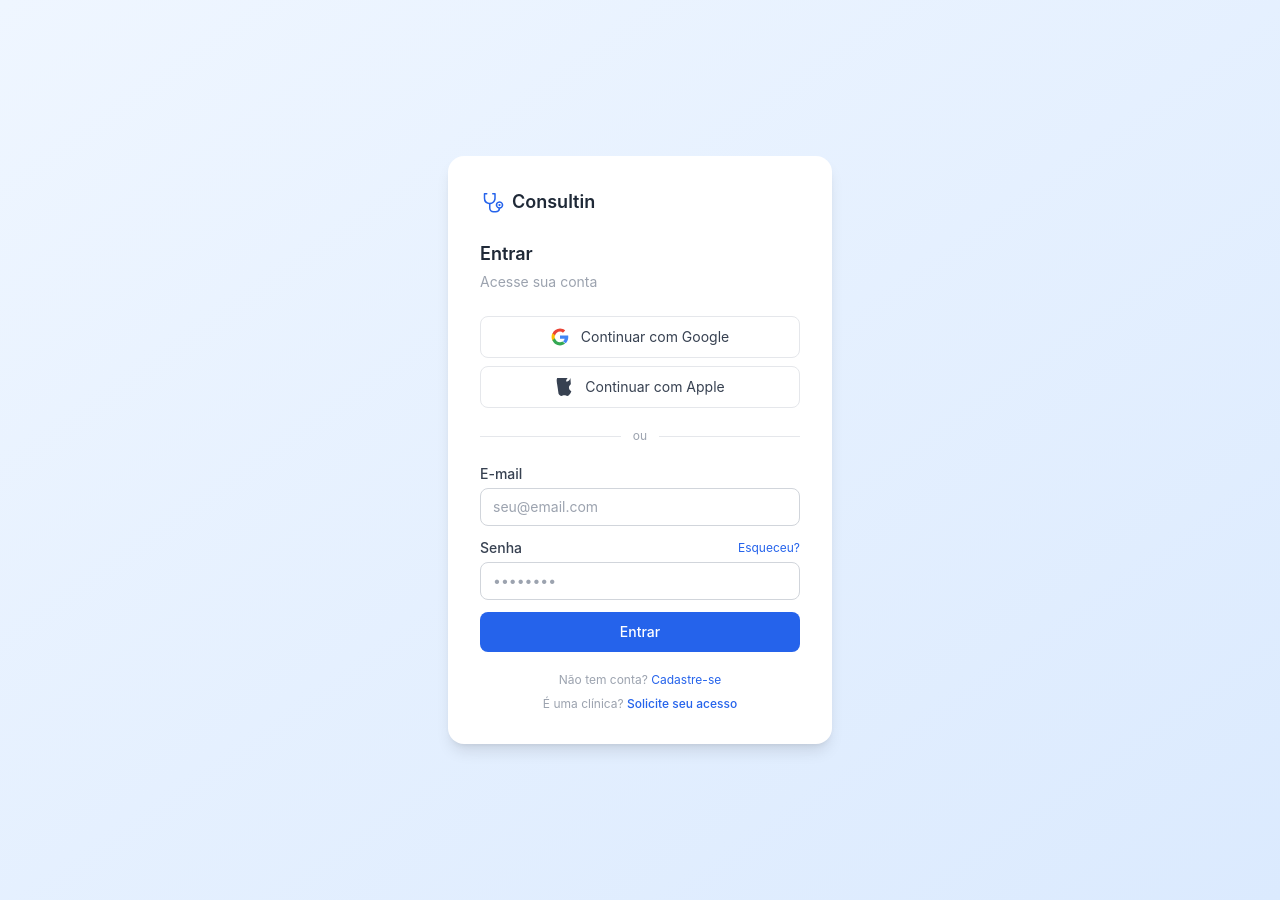
Test: LoginPage — login view › shows error message on invalid credentials
The image size is (1280, 900).
Type "bad@bad.com" into the field with placeholder "seu@email.com" at (640, 507), box [480,488,800,526]
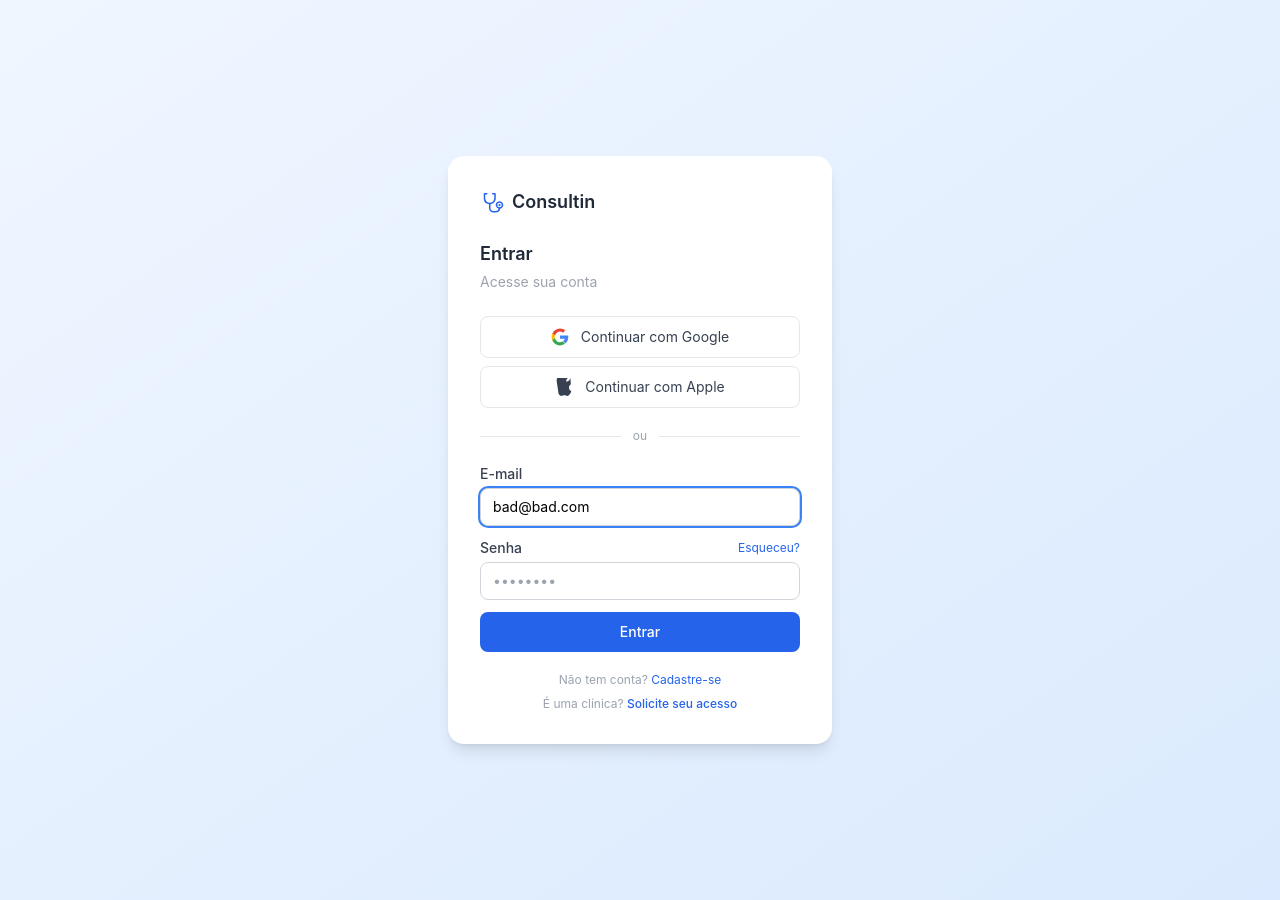
Type "wrongpass" into the password field with placeholder "••••••••" at (640, 581), box [480,562,800,600]
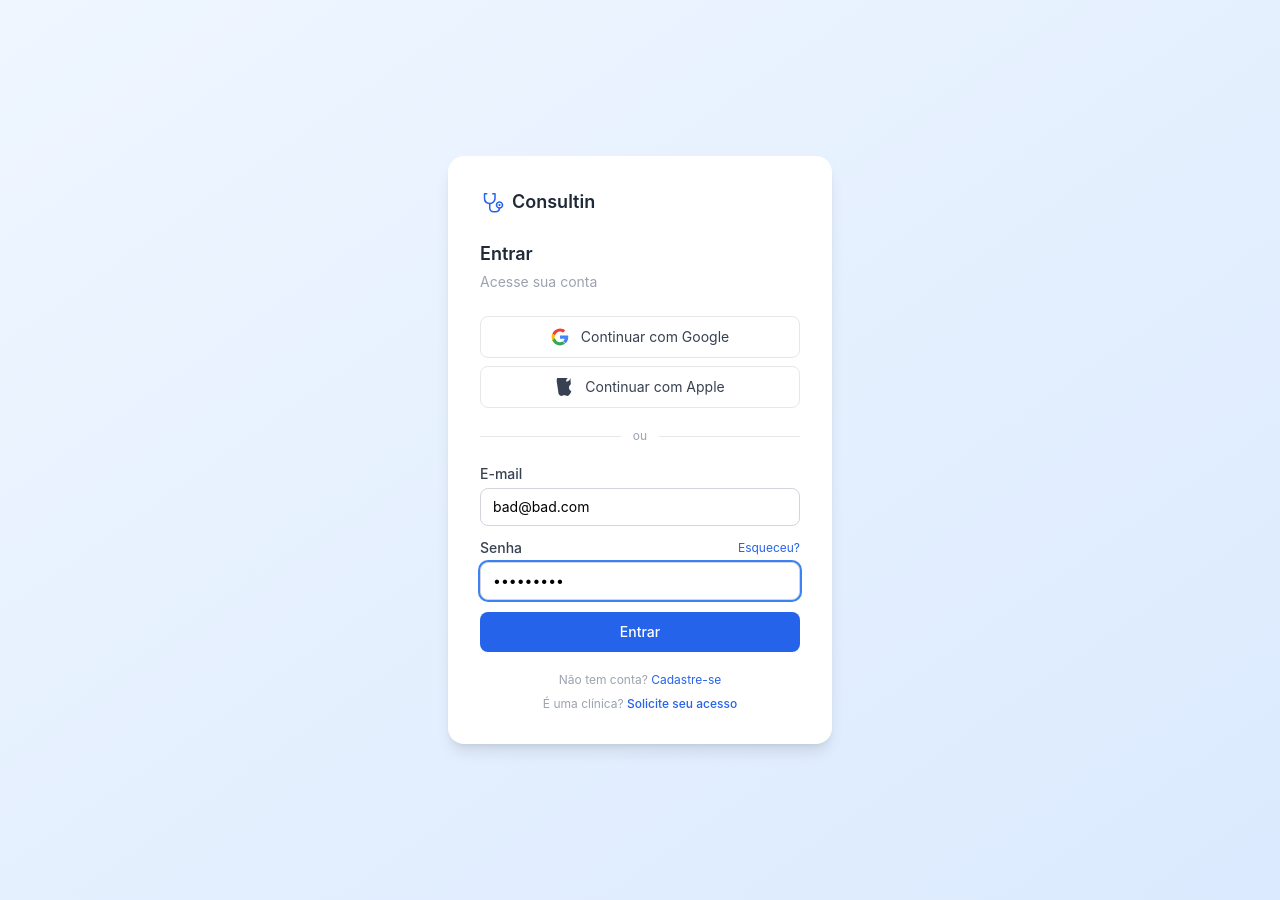
Click the button "Entrar" at (640, 632), box [480,612,800,652]
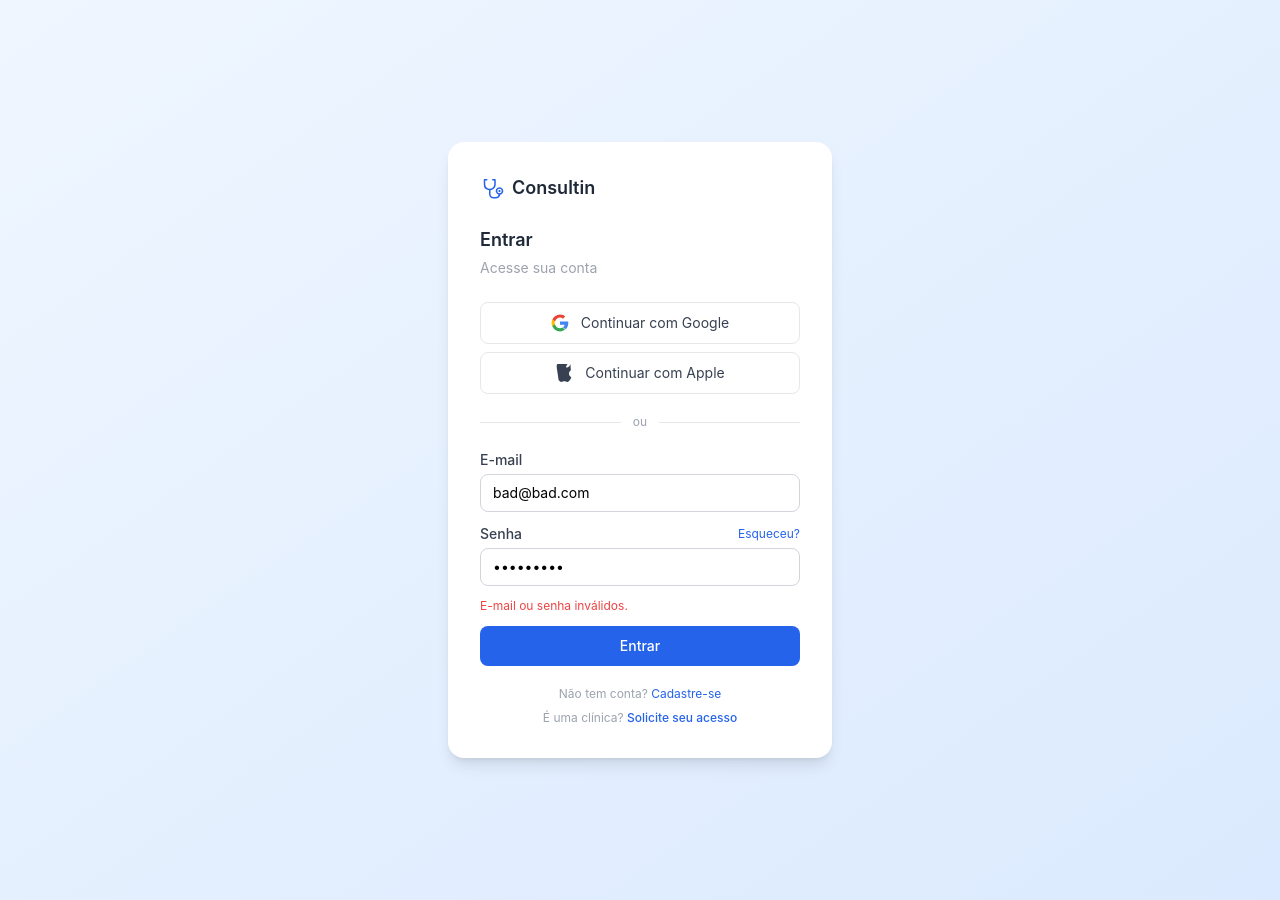
Check: the text "E-mail ou senha inválidos." is shown, box [480,598,628,613]
